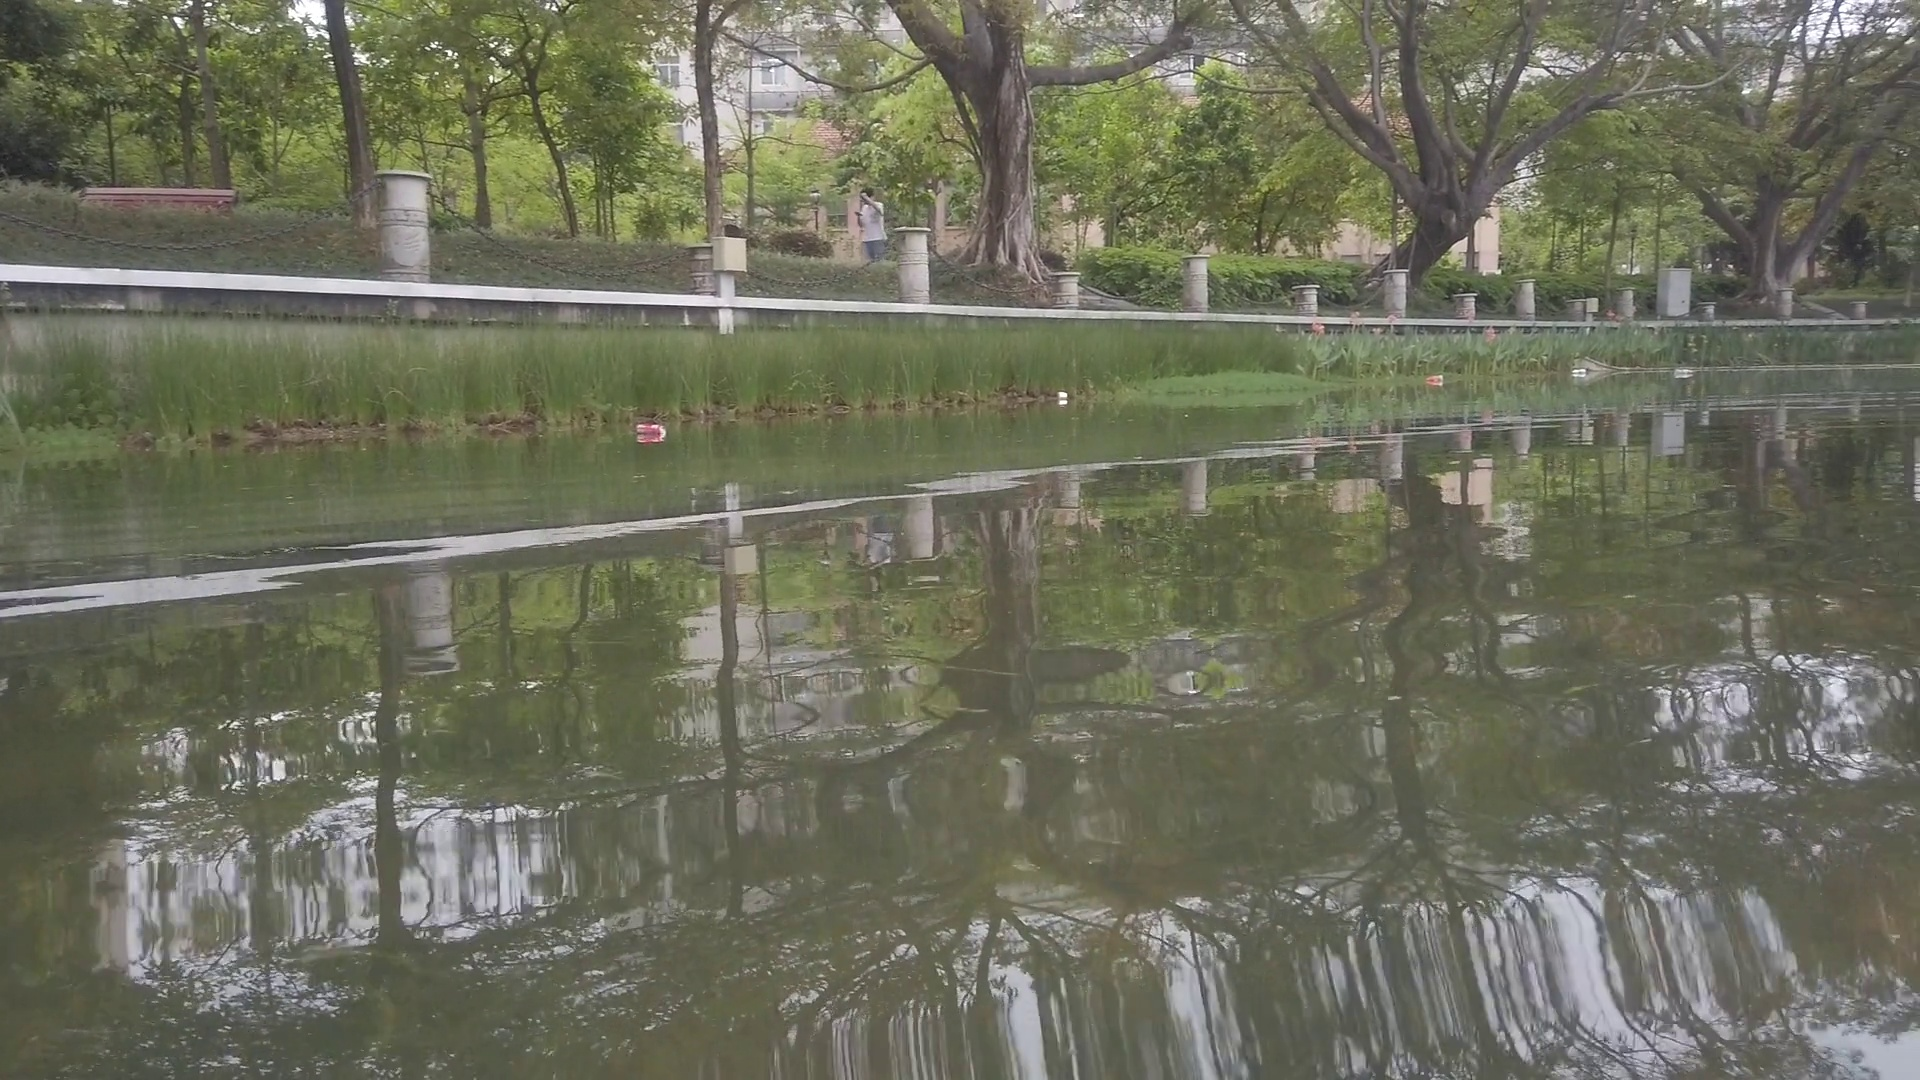bottle: (636, 422, 666, 436), (1673, 369, 1696, 378), (1428, 376, 1443, 382), (1572, 368, 1585, 375)
carton: (1058, 392, 1067, 404)
